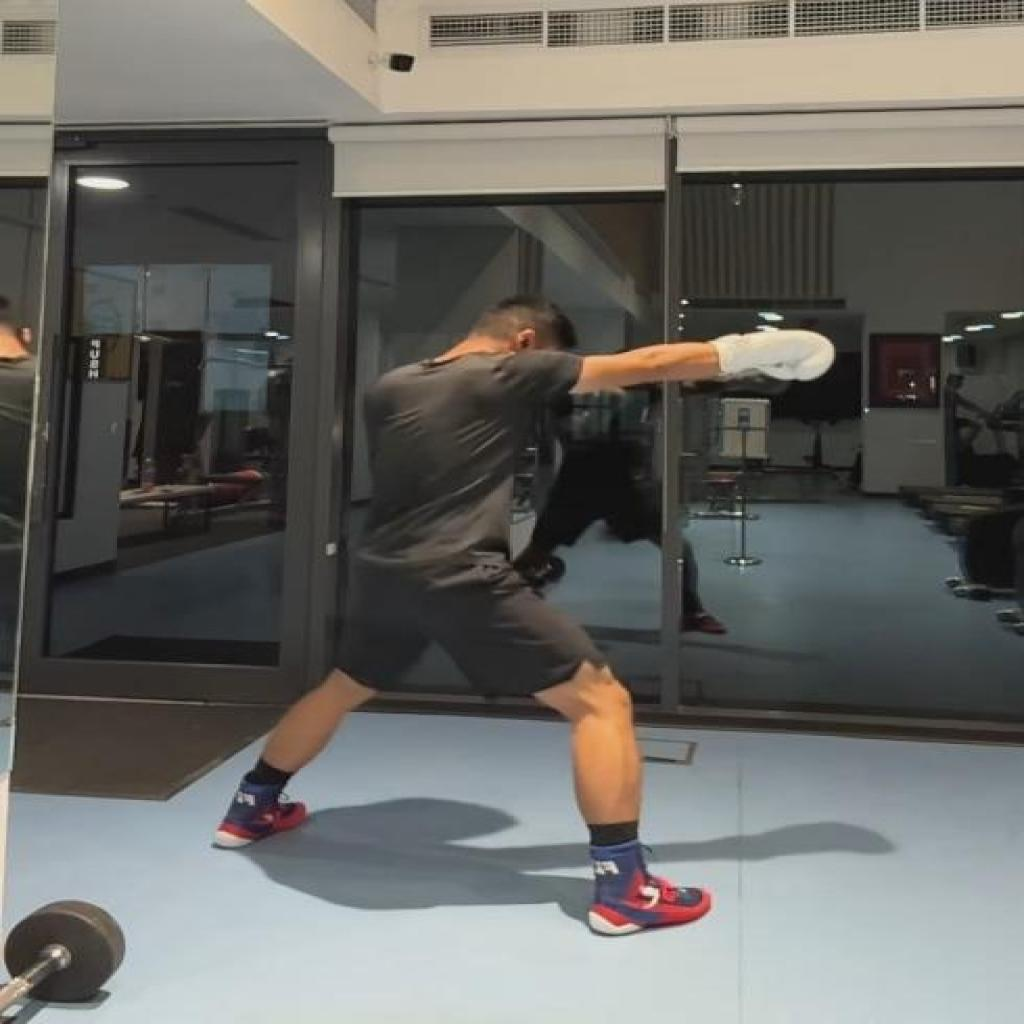jab: (209, 290, 842, 942)
